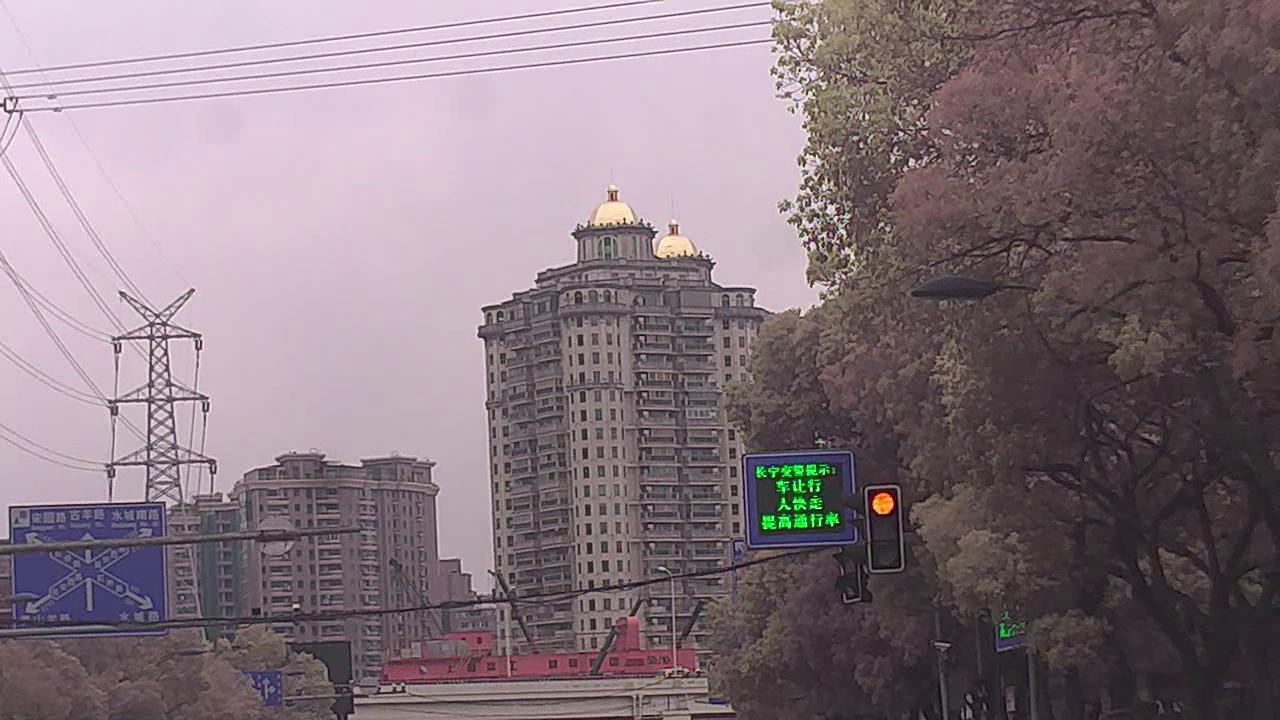traffic_light: (866, 483, 907, 575)
